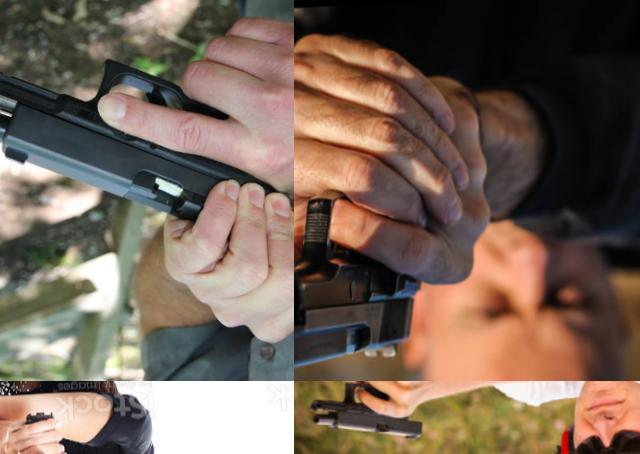handgun: (0, 42, 293, 252), (294, 164, 438, 381), (303, 381, 426, 446), (13, 408, 65, 454)
